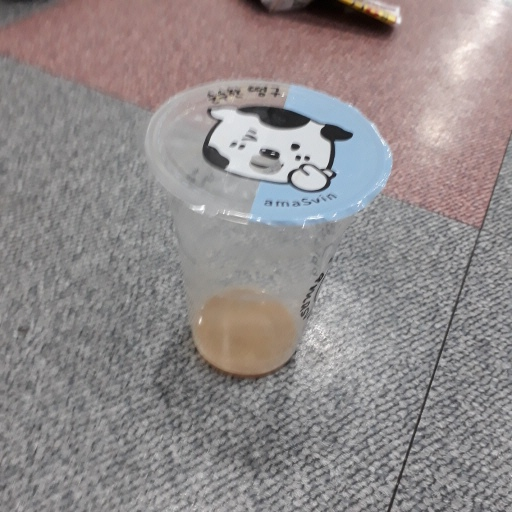Plastic_2: (142, 77, 394, 377)
